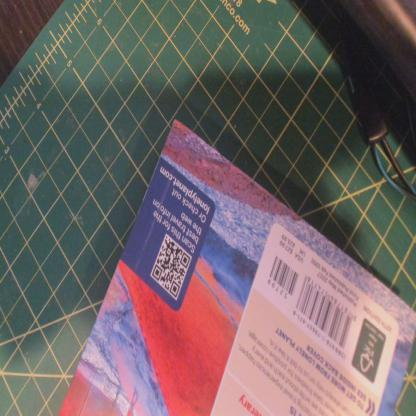barcode: (294, 274, 360, 353), (267, 256, 300, 298)
qr: (144, 235, 193, 300)
